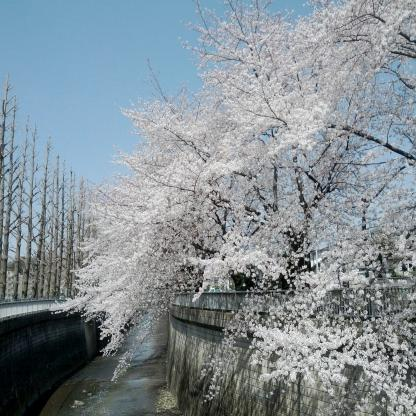Someiyoshino: (59, 0, 416, 416)
